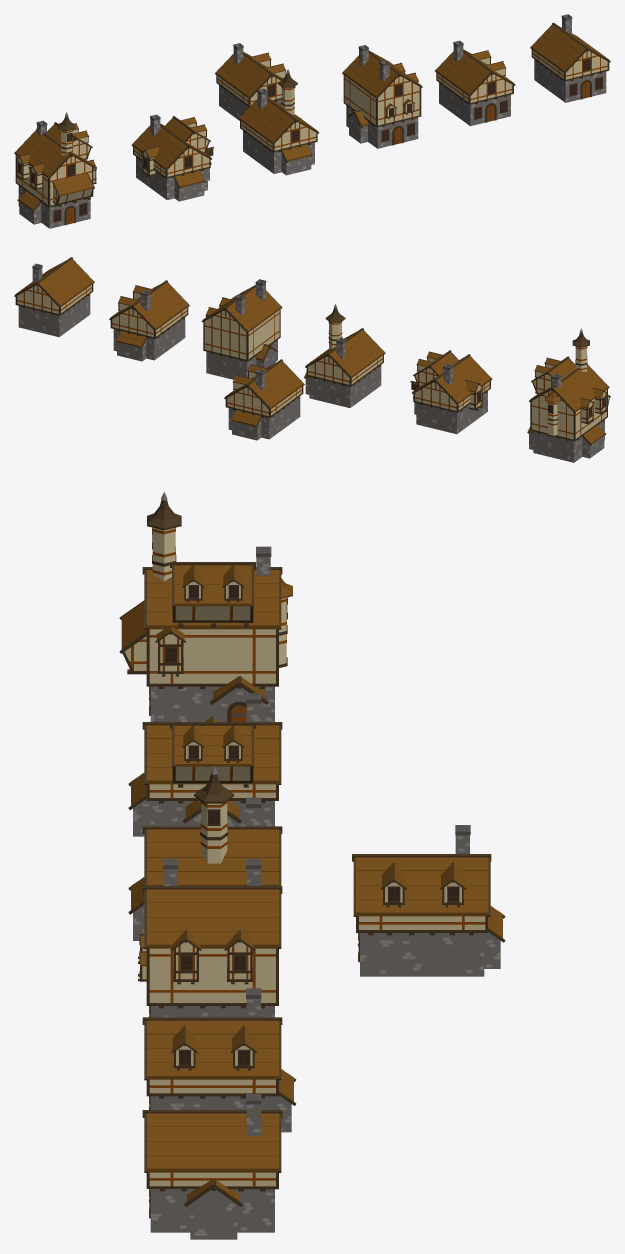
Rendered from CastelHouses.fbx.
3 renders of one model, top to bottom at view 1: azimuth 30°, elevation 25°; view 2: azimuth 150°, elevation 25°; view 3: azimuth 270°, elevation 25°, orthographic. The views are drawn at different scales.
Visible parts, largest first — view 1: Cube.778, Cube.511, Cube.084, Cube.603, Cube.461, Cube.395, Cube.088; view 2: Cube.778, Cube.511, Cube.084, Cube.603, Cube.461, Cube.088, Cube.395; view 3: Cube.778, Cube.511, Cube.088, Cube.395, Cube.084, Cube.461, Cube.603.
Boxes of the visible parts, x1,y1,x2,y2 form: Cube.778: [14, 112, 96, 228]; Cube.511: [342, 45, 422, 148]; Cube.084: [131, 114, 213, 201]; Cube.603: [238, 69, 319, 175]; Cube.461: [435, 40, 515, 126]; Cube.395: [530, 14, 610, 102]; Cube.088: [215, 43, 295, 120]; Cube.778: [527, 328, 610, 462]; Cube.511: [201, 279, 282, 379]; Cube.084: [410, 350, 492, 434]; Cube.603: [304, 304, 385, 407]; Cube.461: [109, 280, 189, 361]; Cube.088: [224, 359, 304, 440]; Cube.395: [14, 257, 94, 337]; Cube.778: [119, 492, 292, 721]; Cube.511: [138, 858, 282, 1017]; Cube.088: [352, 825, 505, 976]; Cube.395: [142, 1094, 282, 1239]; Cube.084: [128, 693, 282, 836]; Cube.461: [142, 988, 296, 1132]; Cube.603: [128, 766, 282, 940].
Bounding box in the file's own units: 7445 × 1359 × 2169.
